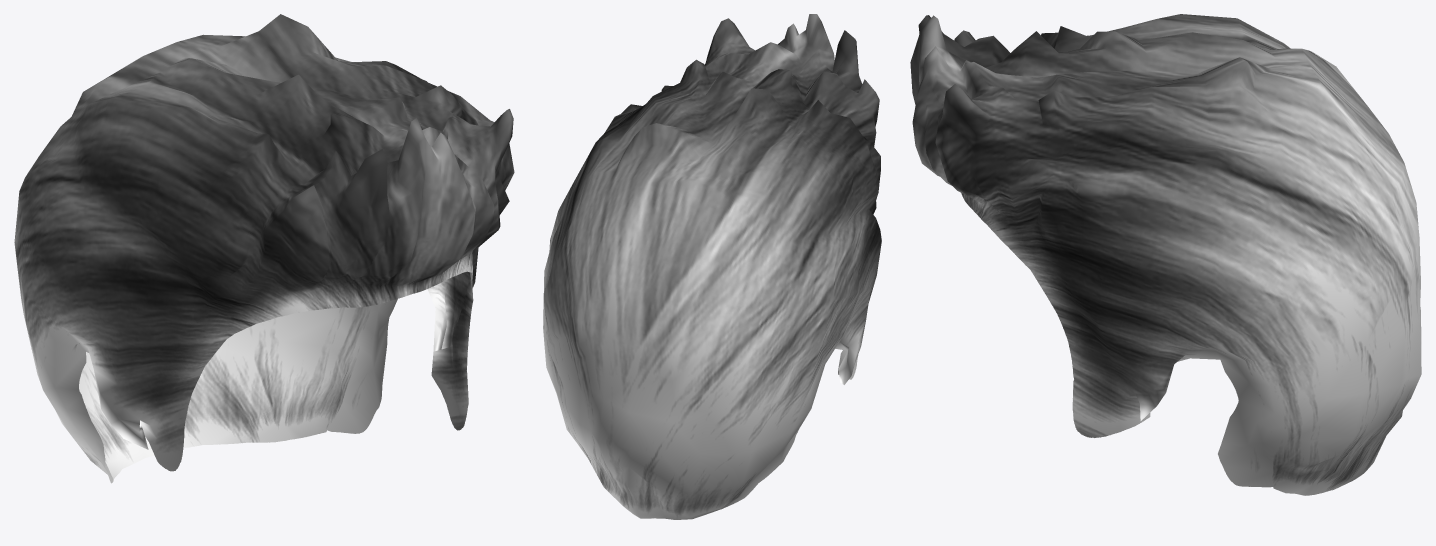
Rendered from hair_maxwell_m_medium.glb.
The picture shows the model from 3 angles, left to right: view 1: azimuth 30°, elevation 25°; view 2: azimuth 150°, elevation 25°; view 3: azimuth 270°, elevation 25°; orthographic projection. The views are drawn at different scales.
Visible parts, largest first — view 1: haircards; view 2: haircards; view 3: haircards.
Part boxes in pixels (x1,y1,x2,y2): haircards: (14,14,514,483); haircards: (543,14,881,519); haircards: (910,14,1421,495).
Bounding box in the file's own units: 0.1844 × 0.2405 × 0.2348.
1 material, 1 textured.
